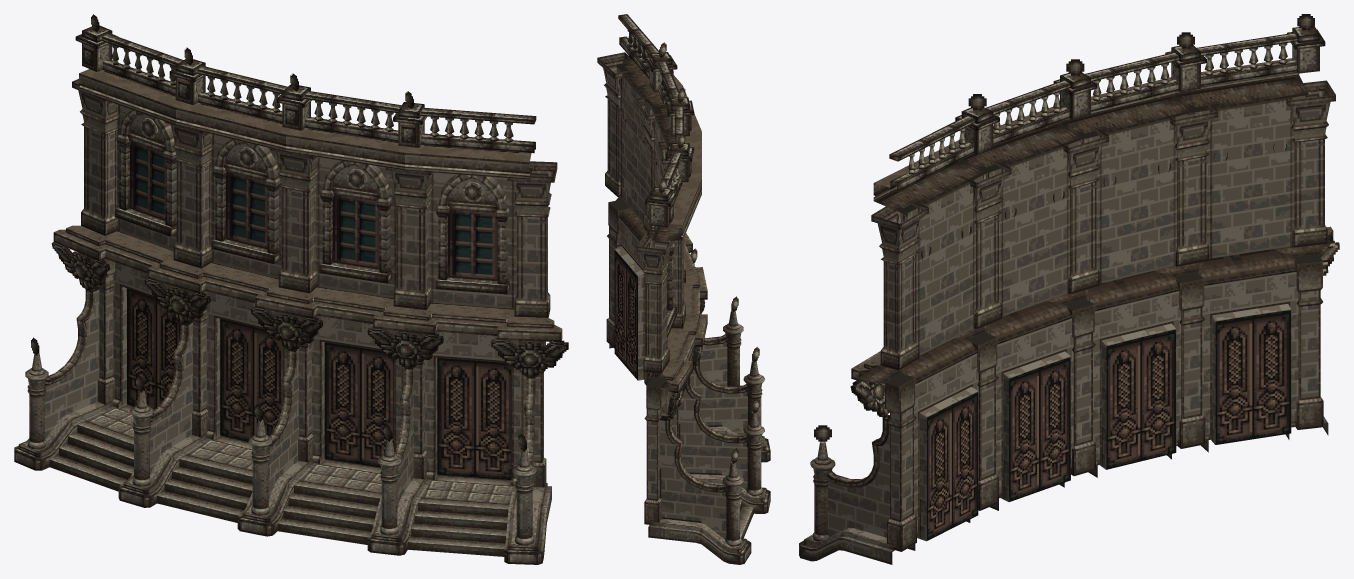
The model's file is EnvBdgMD_Theater_A_Outdoor_Wall_A_R.FBX.
The picture shows the model from 3 angles, left to right: view 1: azimuth 30°, elevation 25°; view 2: azimuth 150°, elevation 25°; view 3: azimuth 270°, elevation 25°; orthographic projection. The views are drawn at different scales.
Visible parts, largest first — view 1: EnvBdgMD_Theater_A_Outdoor_Wall_A_R; view 2: EnvBdgMD_Theater_A_Outdoor_Wall_A_R; view 3: EnvBdgMD_Theater_A_Outdoor_Wall_A_R.
Boxes of the visible parts, x1,y1,x2,y2 form: EnvBdgMD_Theater_A_Outdoor_Wall_A_R: (14, 14, 568, 564); EnvBdgMD_Theater_A_Outdoor_Wall_A_R: (597, 14, 770, 564); EnvBdgMD_Theater_A_Outdoor_Wall_A_R: (799, 14, 1339, 564).
Size of the model in its own units: 954 by 1080 by 1204.
1 material, 1 textured.
